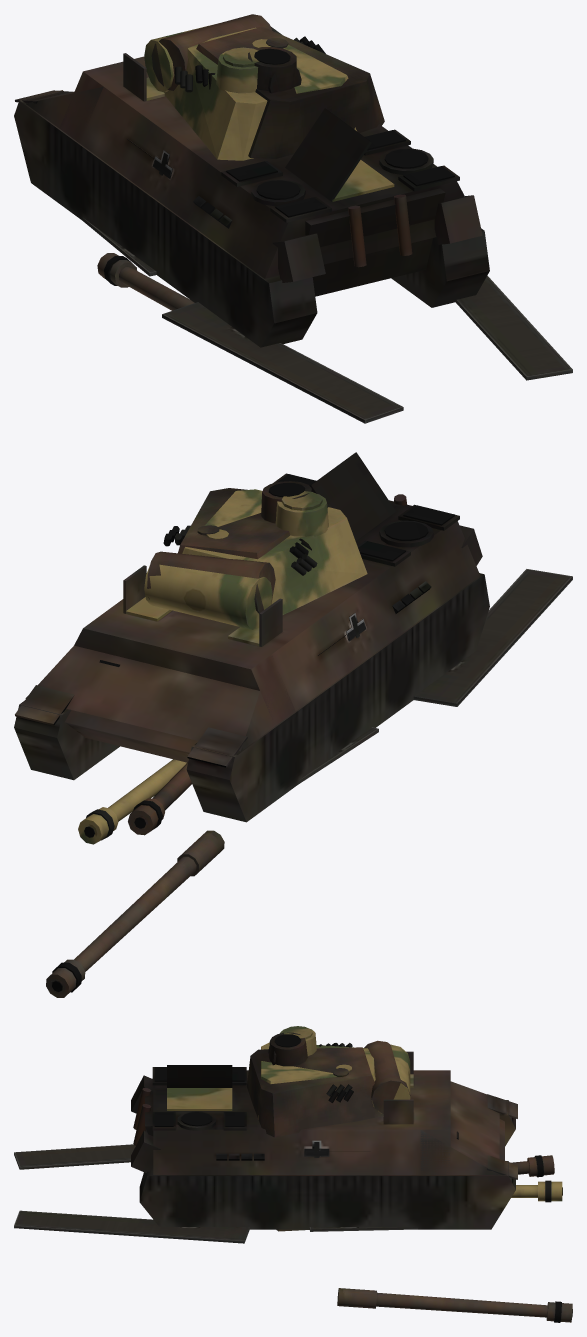
The model's file is pantherD.glb.
3 views of the same model, one above another, from view 1: azimuth 30°, elevation 25°; view 2: azimuth 150°, elevation 25°; view 3: azimuth 270°, elevation 25° (orthographic). The views are drawn at different scales.
Visible parts, largest first — view 1: hull_blown, turret_ko, turret_ok, hull_trackL, hull_trackR, gun_blown, hull_ok; view 2: hull_blown, turret_ok, turret_ko, hull_trackL, gun_blown, gun_ok, gun_ko, hull_ok; view 3: hull_blown, turret_ko, hull_trackR, gun_blown, turret_ok, hull_trackL, hull_ok, gun_ok, gun_ko.
Part boxes in pixels (<box>): hull_blown: <box>14,27,489,347</box>; turret_ko: <box>151,14,384,158</box>; turret_ok: <box>144,24,356,160</box>; hull_trackL: <box>81,217,403,423</box>; hull_trackR: <box>455,276,572,380</box>; gun_blown: <box>97,253,194,310</box>; hull_ok: <box>146,77,394,201</box>; hull_blown: <box>14,452,489,822</box>; turret_ok: <box>144,489,367,629</box>; turret_ko: <box>147,481,331,613</box>; hull_trackL: <box>297,569,572,784</box>; gun_blown: <box>46,830,224,997</box>; gun_ok: <box>78,759,186,844</box>; gun_ko: <box>128,762,191,835</box>; hull_ok: <box>126,597,259,646</box>; hull_blown: <box>131,1051,517,1229</box>; turret_ko: <box>247,1032,410,1137</box>; hull_trackR: <box>14,1210,417,1243</box>; gun_blown: <box>337,1288,572,1322</box>; turret_ok: <box>258,1026,410,1119</box>; hull_trackL: <box>14,1144,135,1169</box>; hull_ok: <box>167,1074,413,1110</box>; gun_ok: <box>511,1180,562,1202</box>; gun_ko: <box>511,1155,554,1177</box>.
Size of the model in its own units: 4.52 by 5.48 by 10.25.
21 materials, 21 textured.
